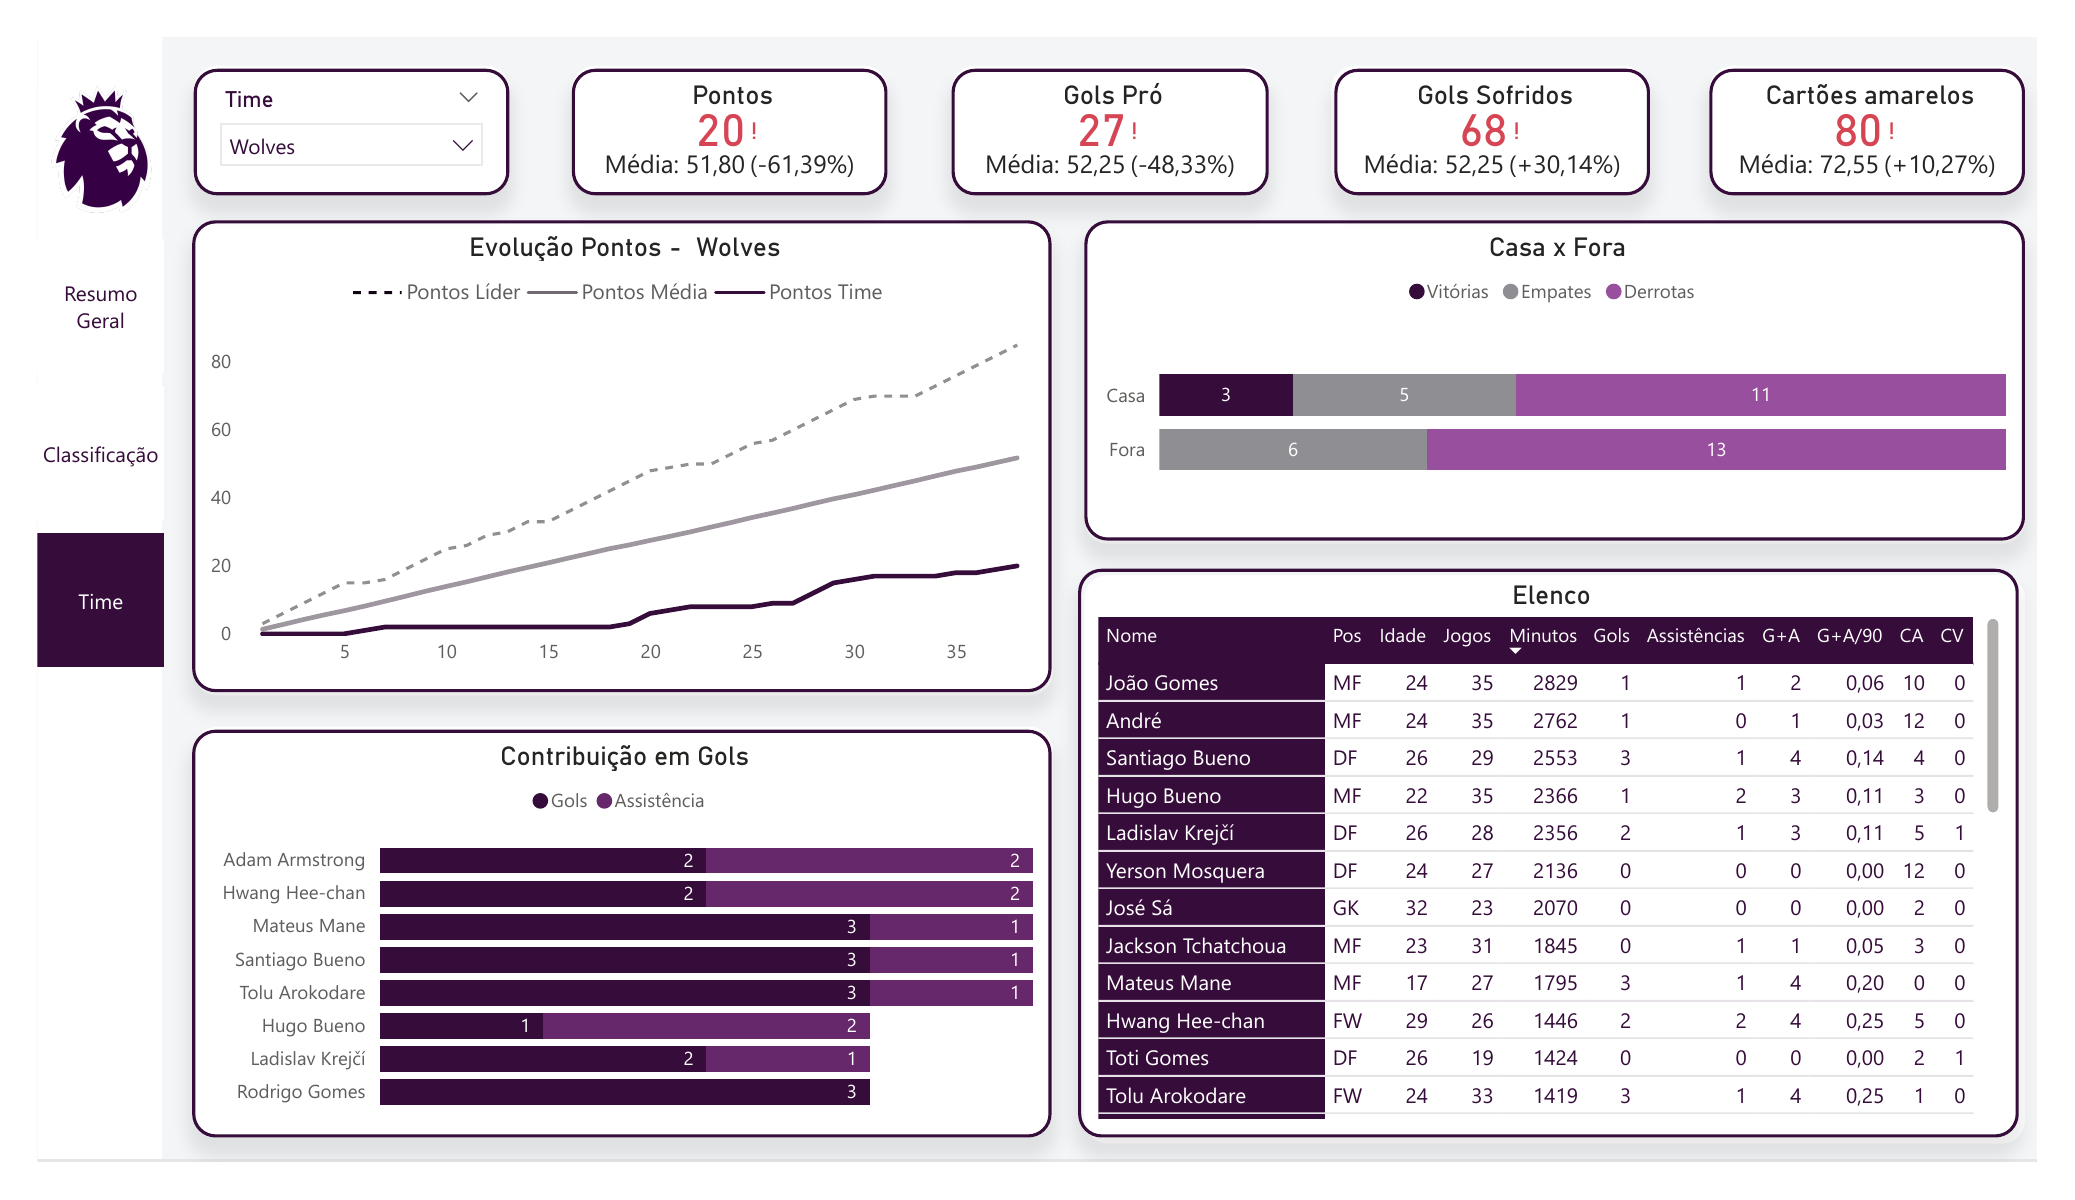

The page's visual inventory and layout, read from the dashboard file:
{"tool":"powerbi","page":{"name":"Time","canvas":[1280,720],"ordinal":2},"visuals":[{"type":"image","box":[0,0,80.7,142.8],"z":0},{"type":"pageNavigator","box":[0,128.9,81.1,275.6],"z":1000},{"type":"slicer","fields":{"Values":["Times.squad"]},"box":[100,20,202.2,81.1],"z":2000},{"type":"kpi","title":"Pontos","fields":{"TrendLine":["Partidas.round"],"Goal":["_Medidas.Pontos Média Liga"],"Indicator":["Sum(Classificação.pts)"]},"box":[341.9,20,202.4,81.4],"z":3000},{"type":"kpi","title":"Gols Pró","fields":{"TrendLine":["Partidas.round"],"Goal":["_Medidas.Gols Pró Média Liga"],"Indicator":["Sum(Classificação.gf)"]},"box":[585.2,20,202.4,81],"z":4000},{"type":"kpi","title":"Gols Sofridos","fields":{"TrendLine":["Partidas.round"],"Goal":["_Medidas.Gols Contra Média Liga"],"Indicator":["Sum(Classificação.ga)"]},"box":[830,20,202.4,81],"z":5000},{"type":"lineChart","fields":{"Y":["_Medidas.Pontos Acumulados Líder","_Medidas.Pontos Acumulados Média","_Medidas.Pontos Acumulados Time"],"Category":["Rodadas.Rodada"]},"box":[98.9,116.7,550,302.2],"z":6000},{"type":"hundredPercentStackedBarChart","title":"Casa x Fora","fields":{"Y":["_Medidas.Vitórias Time","_Medidas.Empates Time","_Medidas.Derrtotas Time"],"Category":["Local.Local"]},"box":[670.5,116.7,601.9,205.7],"z":7000},{"type":"tableEx","title":"Elenco","fields":{"Values":["Jogadores.name","Jogadores.pos","Jogadores.age","Sum(Estatísticas dos Jogadores.matches_played)","Sum(Estatísticas dos Jogadores.minutes_played)","Sum(Estatísticas dos Jogadores.goals)","Sum(Estatísticas dos Jogadores.assists)","Sum(Estatísticas dos Jogadores.goals_assists)","Sum(Estatísticas dos Jogadores.goals_assists_per_90)","Sum(Estatísticas dos Jogadores.cards_yellow)","Sum(Estatísticas dos Jogadores.cards_red)"]},"box":[665.6,340,602,364.4],"z":8000},{"type":"barChart","title":"Contribuição em Gols","fields":{"Category":["Jogadores.name"],"Y":["Sum(Estatísticas dos Jogadores.goals)","Sum(Estatísticas dos Jogadores.assists)"]},"box":[98.9,443.3,550,261.1],"z":9000},{"type":"kpi","title":"Cartões amarelos","fields":{"TrendLine":["Partidas.round"],"Indicator":["_Medidas.Amarelos Time"],"Goal":["_Medidas.Amarelos Média Geral"]},"box":[1070,20,202.4,81],"z":10000}]}

Visuals, with their boxes on the page's 1280x720 design canvas (x1, y1, x2, y2). These are canvas units, not pixel positions in the 2075x1200 screenshot, which may show the page scaled, cropped or inside an application window:
image: Rect(0, 0, 81, 143)
pageNavigator: Rect(0, 129, 81, 404)
slicer - Times.squad: Rect(100, 20, 302, 101)
"Pontos" kpi: Rect(342, 20, 544, 101)
"Gols Pró" kpi: Rect(585, 20, 788, 101)
"Gols Sofridos" kpi: Rect(830, 20, 1032, 101)
lineChart - _Medidas.Pontos Acumulados Líder x _Medidas.Pontos Acumulados Média: Rect(99, 117, 649, 419)
"Casa x Fora" hundredPercentStackedBarChart: Rect(670, 117, 1272, 322)
"Elenco" tableEx: Rect(666, 340, 1268, 704)
"Contribuição em Gols" barChart: Rect(99, 443, 649, 704)
"Cartões amarelos" kpi: Rect(1070, 20, 1272, 101)
